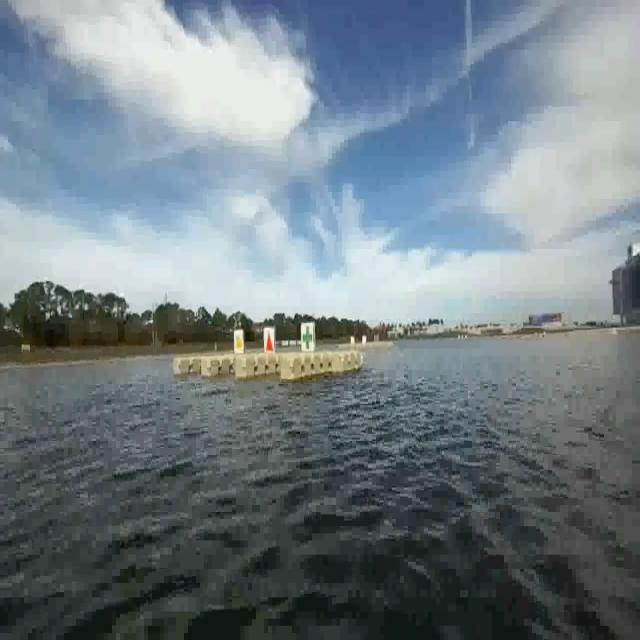blue-cross: (298, 322, 315, 358)
red-dot: (264, 324, 277, 355)
yellow-duck: (232, 332, 243, 354)
